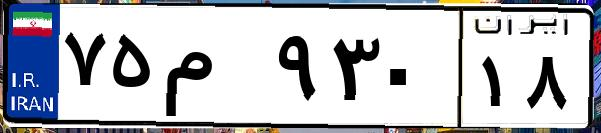0: (385, 28, 445, 110)
1: (475, 38, 525, 113)
3: (330, 28, 385, 110)
5: (110, 28, 158, 98)
7: (57, 26, 110, 100)
8: (525, 38, 570, 115)
9: (270, 28, 330, 110)
م: (158, 20, 270, 120)
